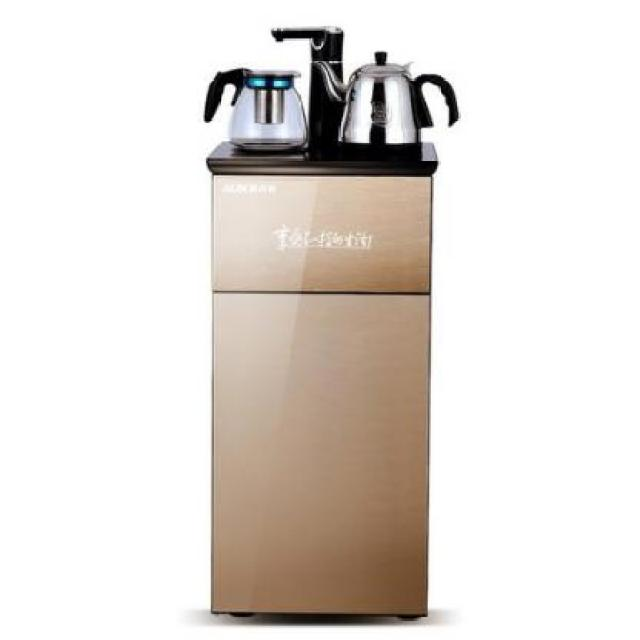cooler: (203, 19, 442, 626)
